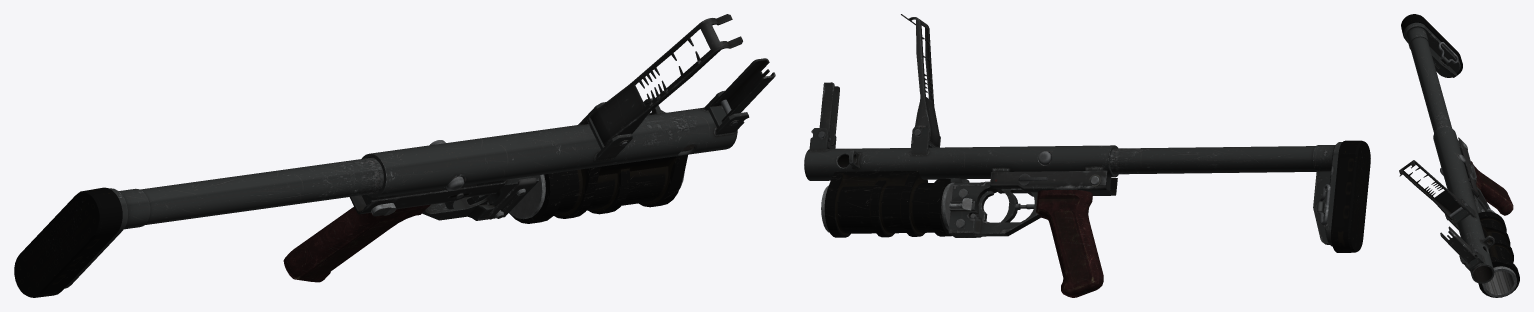
File: rgm-40_gl.glb
3 views of the same model, side by side, from view 1: azimuth 30°, elevation 25°; view 2: azimuth 150°, elevation 25°; view 3: azimuth 270°, elevation 25° (orthographic). The views are drawn at different scales.
Visible parts, largest first — view 1: base, stock, grip, scope_r, scope_f, add_parts; view 2: base, stock, grip, scope_r, add_parts, scope_f; view 3: base, stock, scope_r, grip, scope_f, add_parts.
Part boxes in pixels (x1,y1,x2,y2): base: [349, 90, 749, 223]; stock: [14, 140, 464, 297]; grip: [283, 204, 430, 282]; scope_r: [590, 14, 742, 145]; scope_f: [713, 58, 775, 122]; add_parts: [371, 92, 737, 219]; base: [804, 125, 1118, 237]; stock: [1038, 140, 1370, 252]; grip: [1036, 190, 1103, 297]; scope_r: [901, 14, 939, 146]; add_parts: [818, 129, 1099, 222]; scope_f: [819, 82, 839, 145]; base: [1433, 127, 1519, 297]; stock: [1401, 14, 1465, 175]; scope_r: [1399, 160, 1465, 219]; grip: [1471, 161, 1513, 215]; scope_f: [1440, 226, 1475, 263]; add_parts: [1446, 143, 1494, 253].
Bounding box in the file's own units: 0.635 × 0.2054 × 0.1698.
1 material, 1 textured.
